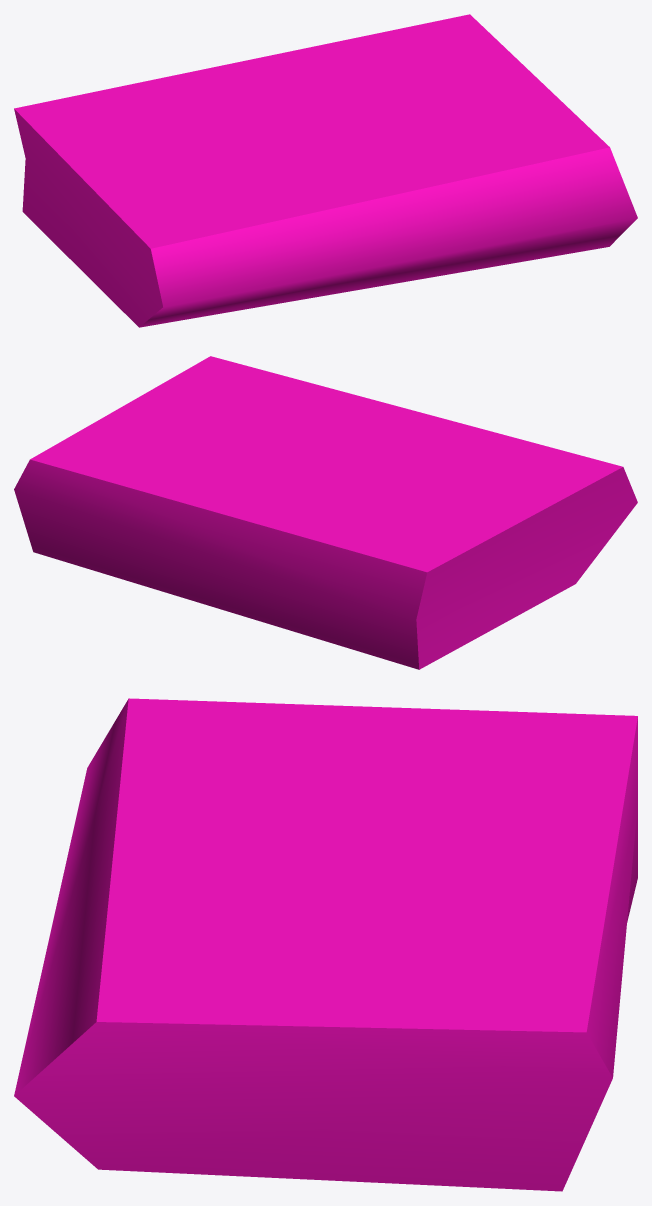
File: study_blanket_3_meshCollider.fbx
3 views of the same model, one above another, from view 1: azimuth 30°, elevation 25°; view 2: azimuth 150°, elevation 25°; view 3: azimuth 270°, elevation 25° (orthographic). The views are drawn at different scales.
Parts seen in each view (by area): view 1: study_blanket_3_meshCollider; view 2: study_blanket_3_meshCollider; view 3: study_blanket_3_meshCollider.
Part boxes in pixels (bbox=[...]): study_blanket_3_meshCollider: bbox=[14, 14, 637, 327]; study_blanket_3_meshCollider: bbox=[14, 356, 637, 669]; study_blanket_3_meshCollider: bbox=[14, 698, 637, 1191].
Bounding box in the file's own units: 29.51 × 6.52 × 22.31.
